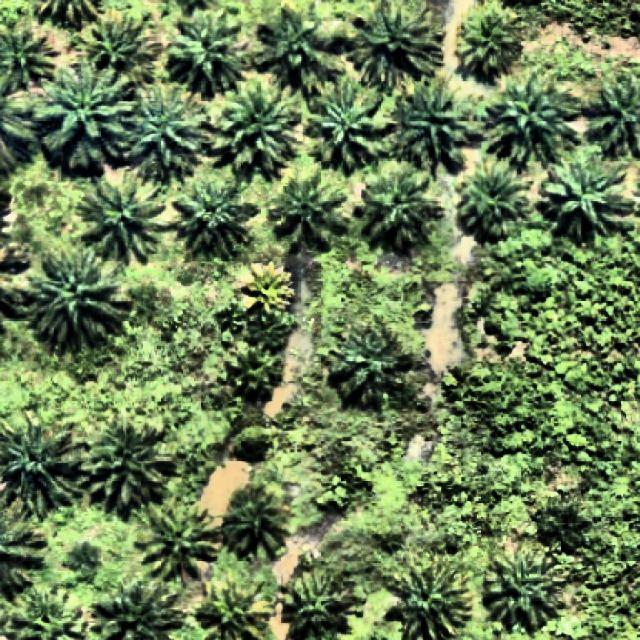Kelapa_Sawit: (26, 248, 132, 358), (40, 58, 136, 177), (86, 409, 180, 522), (484, 73, 586, 175), (206, 74, 302, 182), (538, 146, 638, 248), (255, 0, 351, 105), (72, 170, 178, 264), (348, 0, 443, 97), (390, 70, 476, 176), (324, 315, 416, 413), (304, 76, 394, 176), (125, 78, 204, 184), (137, 492, 220, 586), (481, 546, 567, 636), (176, 173, 262, 261), (360, 170, 445, 258), (172, 5, 248, 100), (384, 558, 472, 640), (270, 168, 353, 254), (456, 162, 530, 245), (218, 484, 297, 561), (83, 8, 159, 88), (455, 0, 523, 85), (228, 342, 282, 402), (242, 260, 295, 316)
